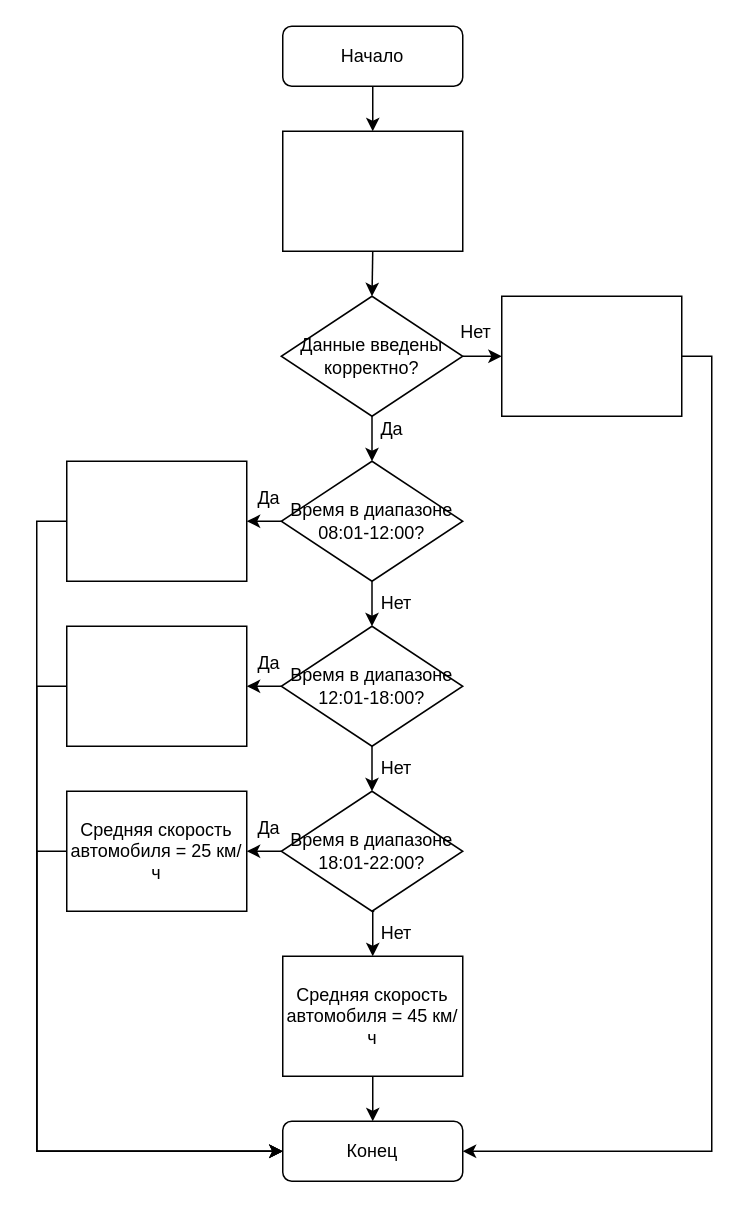
This 750x1208 diagram has some shape labels left out. Each missing label, with the centre of its shape:
"Подсветка красным поля с ошибкой, вывод сообщения об ошибке" goes at point (591, 355).
"Получение времени начала поездки" goes at point (372, 190).
"Средняя скорость автомобиля = 30 км/ч" goes at point (156, 520).
"Средняя скорость автомобиля = 40 км/ч" goes at point (156, 685).
